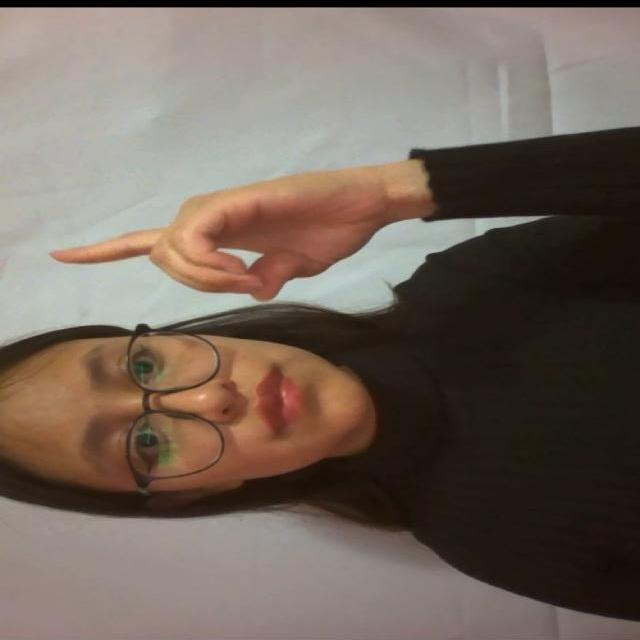D: (31, 152, 364, 314)
